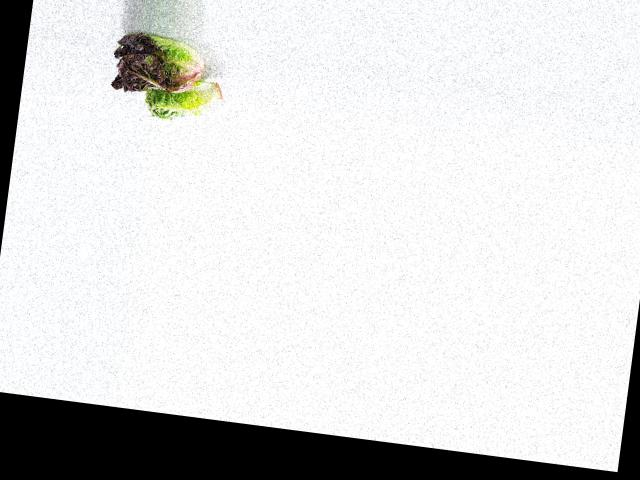lettuce: (141, 70, 227, 127)
